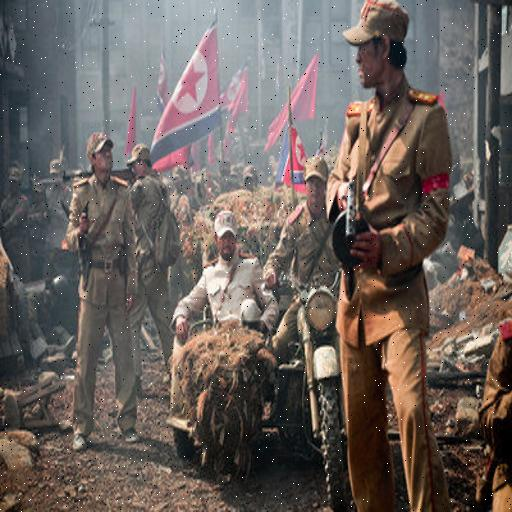north army: (306, 2, 469, 511), (61, 123, 169, 452)
